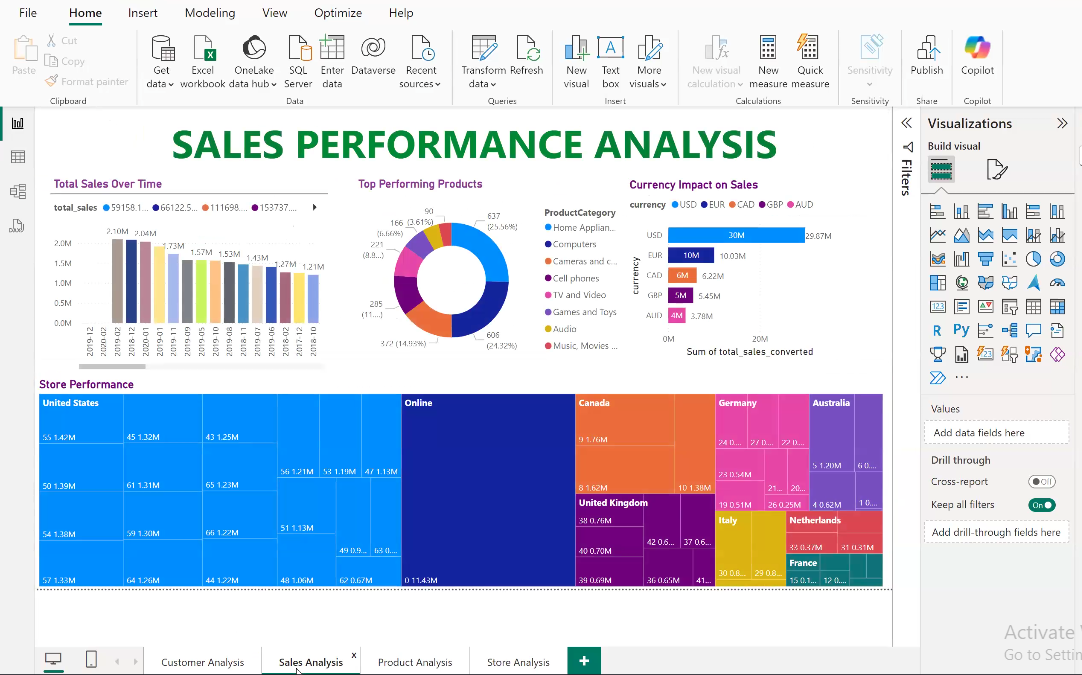

The dashboard page shown, as its layout file describes it:
{"tool":"powerbi","page":{"name":"Sales Analysis","canvas":[1280,720],"ordinal":1},"visuals":[{"type":"textbox","box":[10.3,0,1269.6,101.4],"z":0},{"type":"textbox","box":[22,101.4,188.1,36.7],"z":1000},{"type":"columnChart","fields":{"Y":["Sum(customer_sale_eda sales_details.Order_Number)"]},"box":[22,154.3,188.1,149.9],"z":2000},{"type":"textbox","box":[308.6,101.4,280.7,36.7],"z":3000},{"type":"donutChart","fields":{"Y":["CountNonNull(customer_sale_eda product_details.Product_Name)"],"Category":["customer_sale_eda product_details.Category"]},"box":[320.3,154.3,340.9,245.4],"z":4000},{"type":"textbox","box":[645.1,101.4,286.5,38.2],"z":5000},{"type":"hundredPercentStackedBarChart","fields":{"Category":["customer_sale_eda exchange_details.Currency_Code"]},"box":[508,154,772,150],"z":6000},{"type":"treemap","box":[10.3,360,188.1,149.9],"z":7000},{"type":"textbox","box":[22,314.4,188.1,33.8],"z":8000}]}

Visuals, with their boxes on the page's 1280x720 design canvas (x1, y1, x2, y2). These are canvas units, not pixel positions in the 1082x675 screenshot, which may show the page scaled, cropped or inside an application window:
textbox: crop(10, 0, 1280, 101)
textbox: crop(22, 101, 210, 138)
columnChart - Sum(customer_sale_eda sales_details.Order_Number): crop(22, 154, 210, 304)
textbox: crop(309, 101, 589, 138)
donutChart - CountNonNull(customer_sale_eda product_details.Product_Name) x customer_sale_eda product_details.Category: crop(320, 154, 661, 400)
textbox: crop(645, 101, 932, 140)
hundredPercentStackedBarChart - customer_sale_eda exchange_details.Currency_Code: crop(508, 154, 1280, 304)
treemap: crop(10, 360, 198, 510)
textbox: crop(22, 314, 210, 348)
